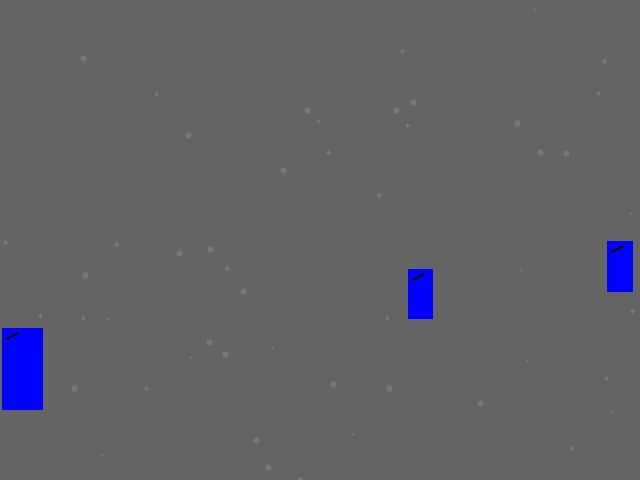motorcycle: (2, 328, 42, 409), (607, 241, 632, 291), (408, 269, 432, 318)
